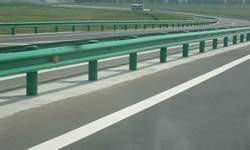not_damaged: (25, 19, 218, 71)
